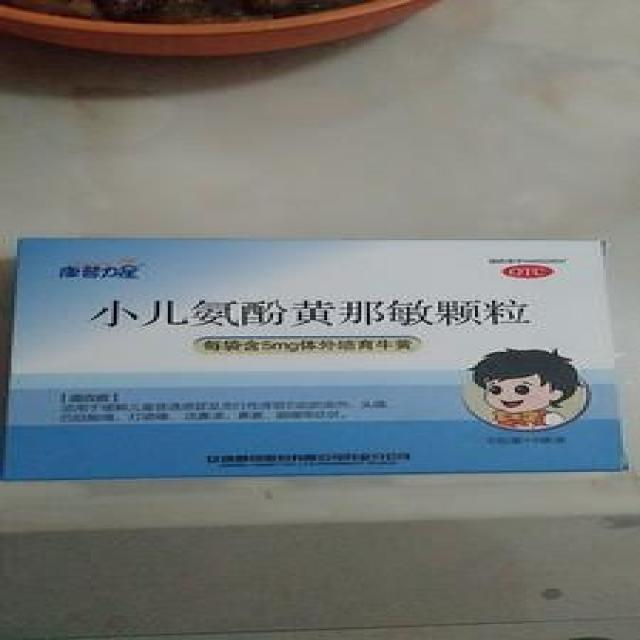-Recyclables - paper box-: (2, 235, 628, 485)
